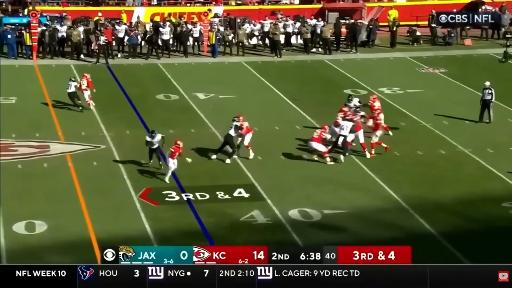Helmet: (344, 111, 353, 119), (344, 115, 354, 122), (352, 98, 360, 106), (339, 106, 349, 112), (370, 94, 378, 101), (353, 107, 361, 114), (346, 95, 353, 103), (175, 140, 182, 147), (238, 115, 244, 122), (232, 116, 239, 122), (372, 112, 379, 117), (322, 125, 329, 130), (83, 73, 90, 78), (151, 130, 156, 135), (70, 77, 76, 81)
Jersey: (338, 120, 354, 136), (334, 110, 352, 124), (310, 129, 327, 143), (146, 134, 162, 148), (351, 114, 362, 132), (368, 99, 381, 114), (372, 112, 382, 131), (80, 78, 94, 91), (240, 122, 253, 136), (169, 146, 182, 159), (228, 122, 240, 136), (115, 25, 127, 38), (260, 20, 272, 31), (191, 26, 202, 37), (160, 27, 170, 39), (251, 23, 261, 35), (57, 26, 67, 38), (67, 82, 78, 92), (241, 23, 251, 34), (284, 20, 293, 32), (315, 21, 323, 33), (307, 19, 316, 27), (277, 22, 284, 31), (339, 106, 349, 112)
Player: (210, 116, 241, 163), (347, 108, 370, 158), (329, 116, 353, 161), (329, 106, 352, 151), (308, 126, 334, 164), (371, 113, 389, 156), (237, 116, 254, 159), (165, 140, 182, 183), (66, 77, 83, 112), (146, 130, 162, 164), (80, 74, 95, 106), (368, 95, 383, 122), (346, 98, 362, 109)
